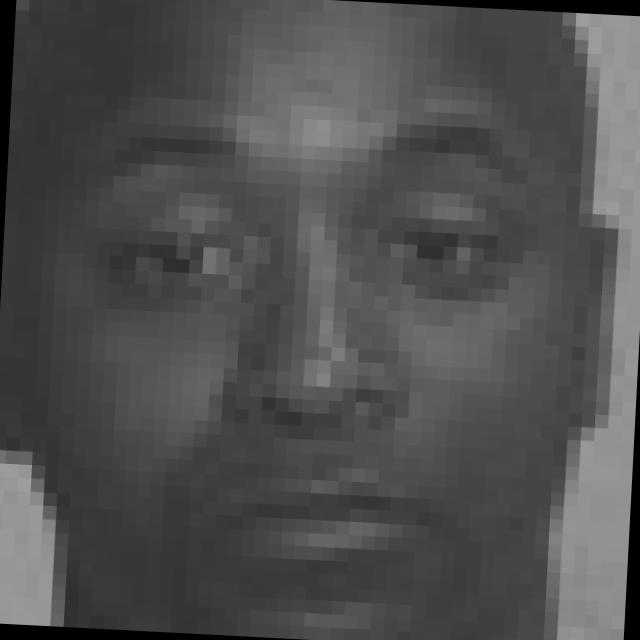neutral: (49, 97, 536, 618)
